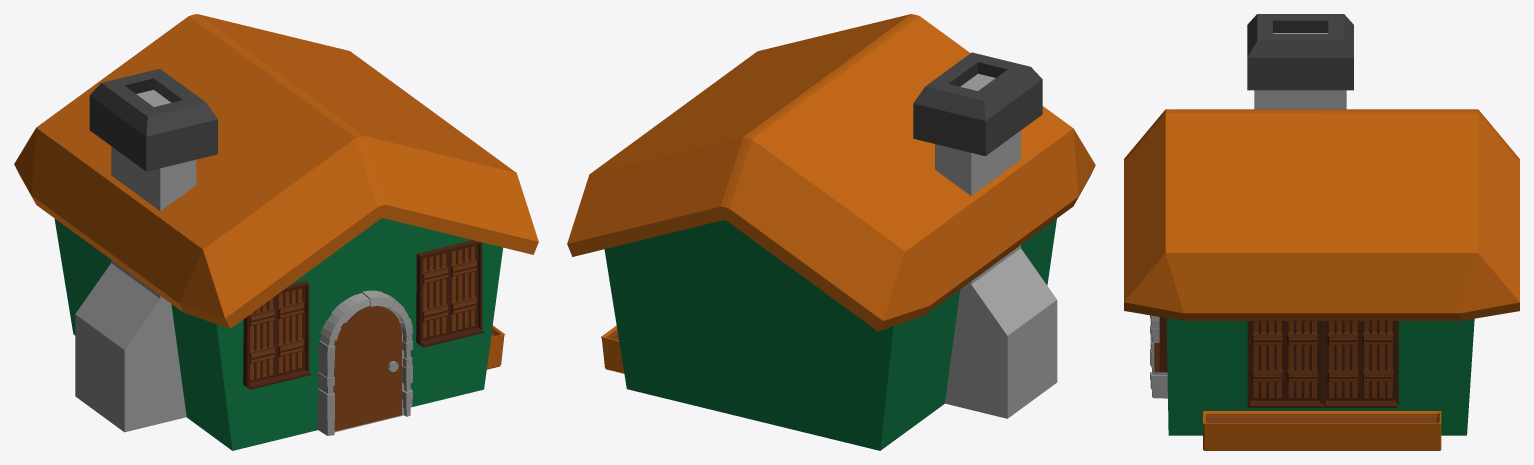
The model's file is SagradoCasaVerde.fbx.
3 renders of one model, left to right at view 1: azimuth 30°, elevation 25°; view 2: azimuth 150°, elevation 25°; view 3: azimuth 270°, elevation 25°, orthographic. The views are drawn at different scales.
Visible parts, largest first — view 1: CasaVerde; view 2: CasaVerde; view 3: CasaVerde.
Boxes of the visible parts, x1,y1,x2,y2 form: CasaVerde: (14, 14, 538, 450); CasaVerde: (567, 14, 1095, 450); CasaVerde: (1124, 14, 1519, 450).
Bounding box in the file's own units: 1051 × 864 × 1070.
